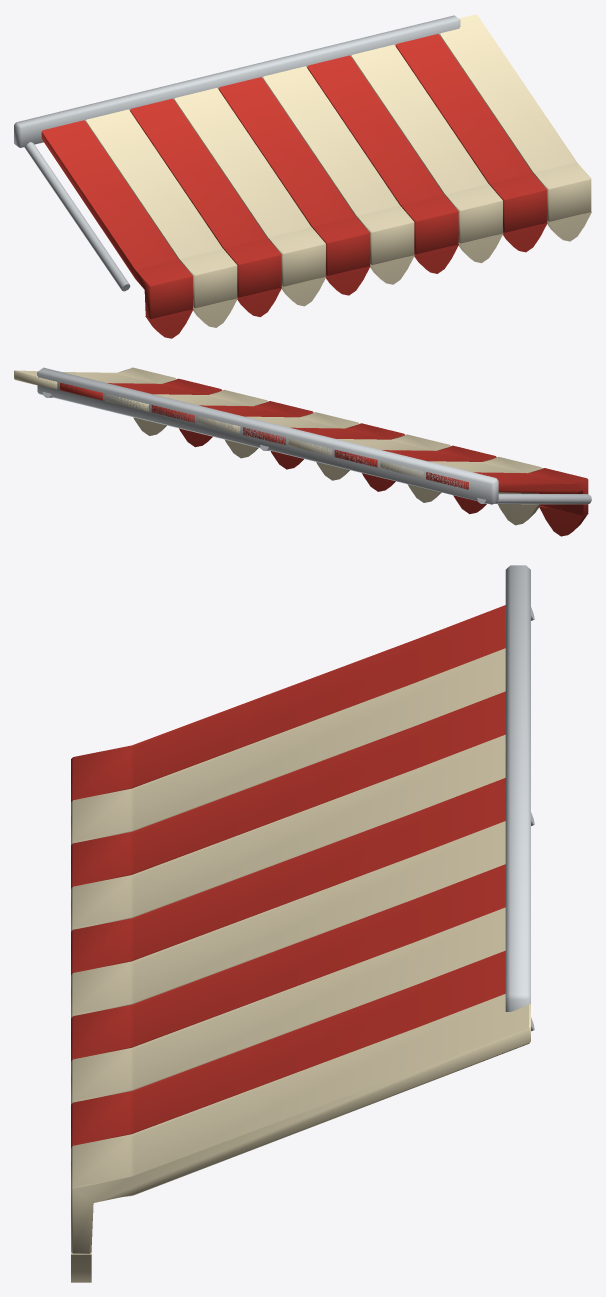
Rendered from SM_Awning_Storefront_2m.glb.
The picture shows the model from 3 angles, top to bottom: view 1: azimuth 30°, elevation 25°; view 2: azimuth 150°, elevation 25°; view 3: azimuth 270°, elevation 25°; orthographic projection. The views are drawn at different scales.
Parts seen in each view (by area): view 1: SM_Awning_Storefront_2m; view 2: SM_Awning_Storefront_2m; view 3: SM_Awning_Storefront_2m.
Boxes of the visible parts, <box> form: SM_Awning_Storefront_2m: <box>14,14,591,338</box>; SM_Awning_Storefront_2m: <box>14,367,591,536</box>; SM_Awning_Storefront_2m: <box>71,565,534,1282</box>.
Bounding box in the file's own units: 2.1 × 0.62 × 0.9075.
Materials: 1 (1 with a texture image).
